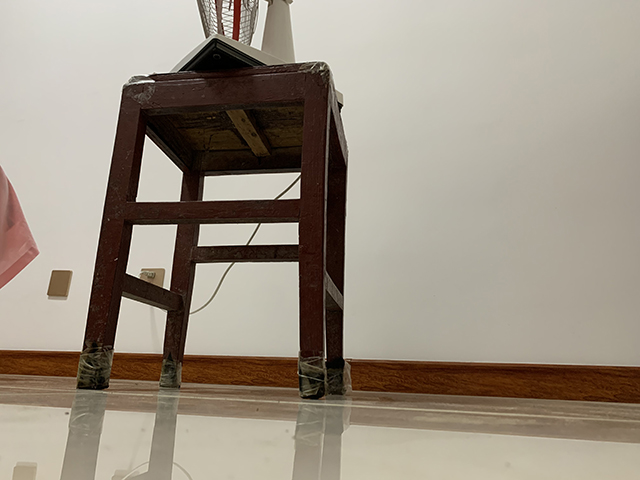stool: (72, 58, 353, 402)
